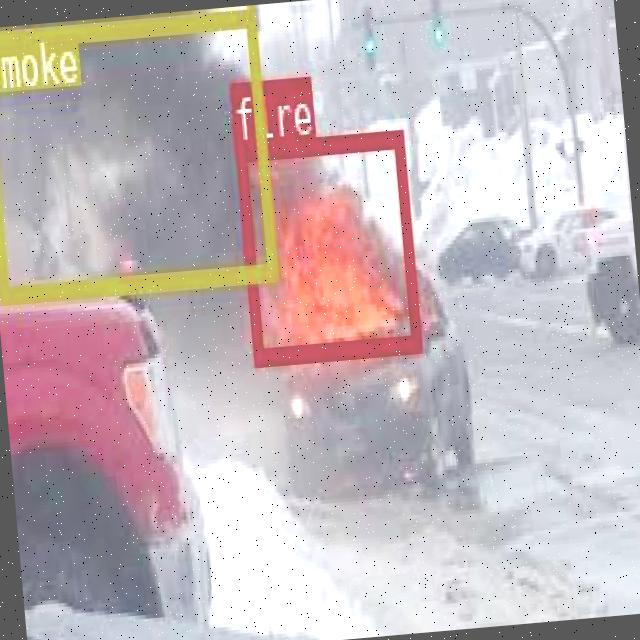fire: (232, 128, 420, 362)
smoke: (0, 7, 277, 302)
